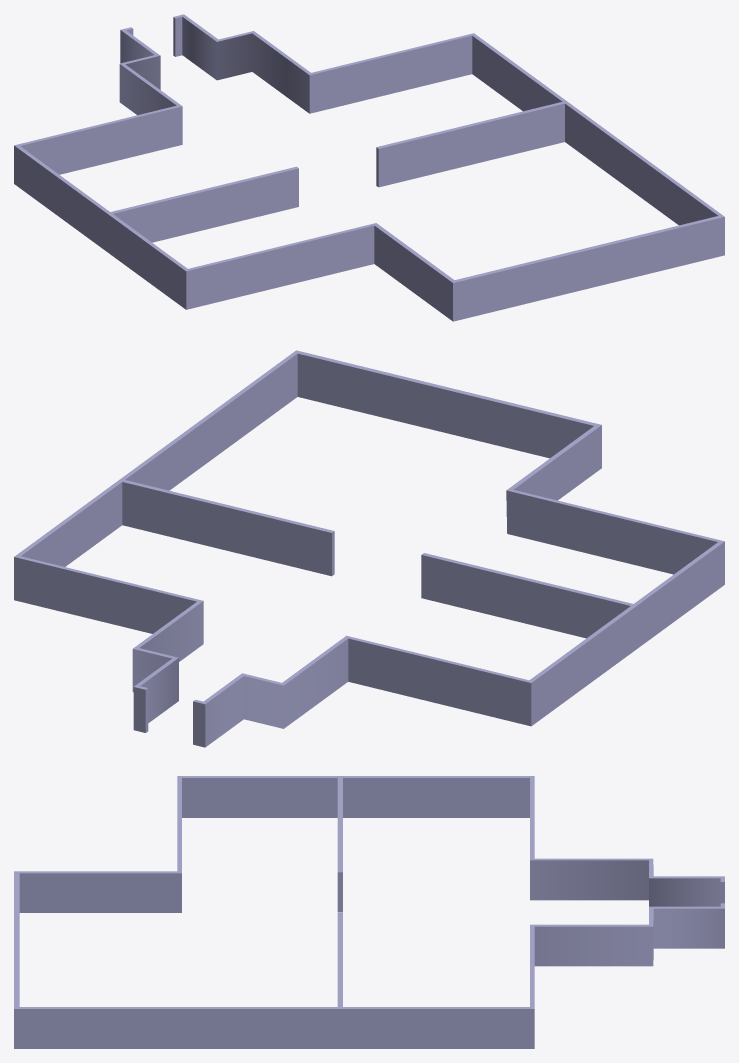
File: wall 1 to 19.fbx
The picture shows the model from 3 angles, top to bottom: view 1: azimuth 30°, elevation 25°; view 2: azimuth 150°, elevation 25°; view 3: azimuth 270°, elevation 25°; orthographic projection. The views are drawn at different scales.
Parts seen in each view (by area): view 1: Wall_10, Wall_18, Wall_8, Wall_19, Wall_13, Wall_5, Wall_11, Wall_6, Wall_7, Wall_9, Wall_12, Wall_14 (+5 smaller); view 2: Wall_10, Wall_18, Wall_8, Wall_19, Wall_5, Wall_13, Wall_11, Wall_6, Wall_7, Wall_12, Wall_9, Wall_4 (+6 smaller); view 3: Wall_11, Wall_12, Wall_6, Wall_9, Wall_7, Wall_14, Wall_4, Wall_16, Wall_2, Wall_10, Wall_19, Wall_18 (+1 smaller).
Part boxes in pixels (bbox=[...]): Wall_10: bbox=[453, 216, 724, 321]; Wall_18: bbox=[376, 102, 564, 187]; Wall_8: bbox=[186, 223, 375, 309]; Wall_19: bbox=[110, 166, 298, 242]; Wall_13: bbox=[309, 33, 473, 113]; Wall_5: bbox=[15, 105, 182, 174]; Wall_11: bbox=[565, 102, 724, 225]; Wall_6: bbox=[14, 145, 109, 251]; Wall_7: bbox=[107, 212, 187, 309]; Wall_9: bbox=[374, 223, 454, 321]; Wall_12: bbox=[472, 33, 568, 111]; Wall_14: bbox=[252, 31, 310, 113]; Wall_10: bbox=[296, 350, 601, 458]; Wall_18: bbox=[122, 480, 334, 576]; Wall_8: bbox=[506, 489, 723, 574]; Wall_19: bbox=[421, 553, 632, 638]; Wall_5: bbox=[347, 636, 531, 726]; Wall_13: bbox=[14, 556, 203, 633]; Wall_11: bbox=[121, 350, 297, 490]; Wall_6: bbox=[529, 606, 636, 725]; Wall_7: bbox=[631, 541, 724, 649]; Wall_12: bbox=[14, 479, 124, 566]; Wall_9: bbox=[507, 425, 601, 500]; Wall_4: bbox=[282, 636, 348, 728]; Wall_11: bbox=[14, 1007, 337, 1048]; Wall_12: bbox=[337, 1007, 534, 1048]; Wall_6: bbox=[341, 776, 533, 817]; Wall_9: bbox=[14, 871, 181, 912]; Wall_7: bbox=[177, 776, 342, 817]; Wall_14: bbox=[531, 924, 653, 966]; Wall_4: bbox=[530, 858, 652, 900]; Wall_16: bbox=[649, 906, 724, 948]; Wall_2: bbox=[649, 876, 724, 906]; Wall_10: bbox=[14, 871, 19, 1008]; Wall_19: bbox=[337, 778, 342, 912]; Wall_18: bbox=[337, 912, 342, 1006].
Size of the model in its own units: 22.01 by 1.76 by 28.41.
